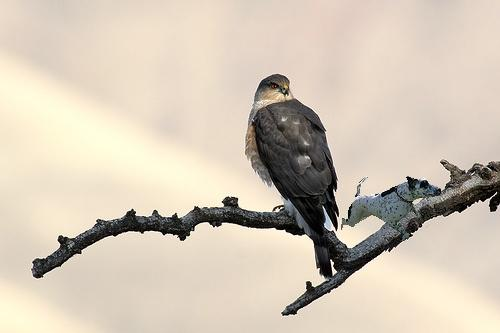tampered: (342, 177, 441, 241)
